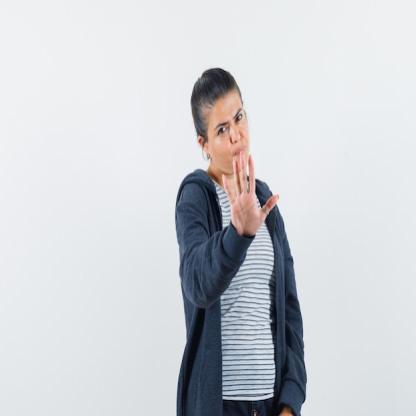stop: (218, 150, 280, 242)
